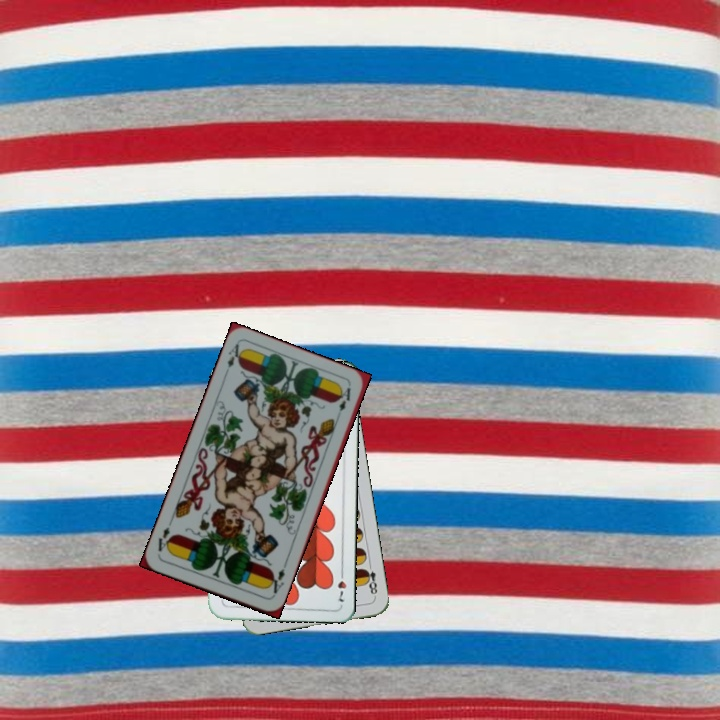E8: (360, 559, 380, 600)
EA: (220, 340, 246, 379), (264, 565, 287, 599)
H7: (334, 565, 348, 605)
